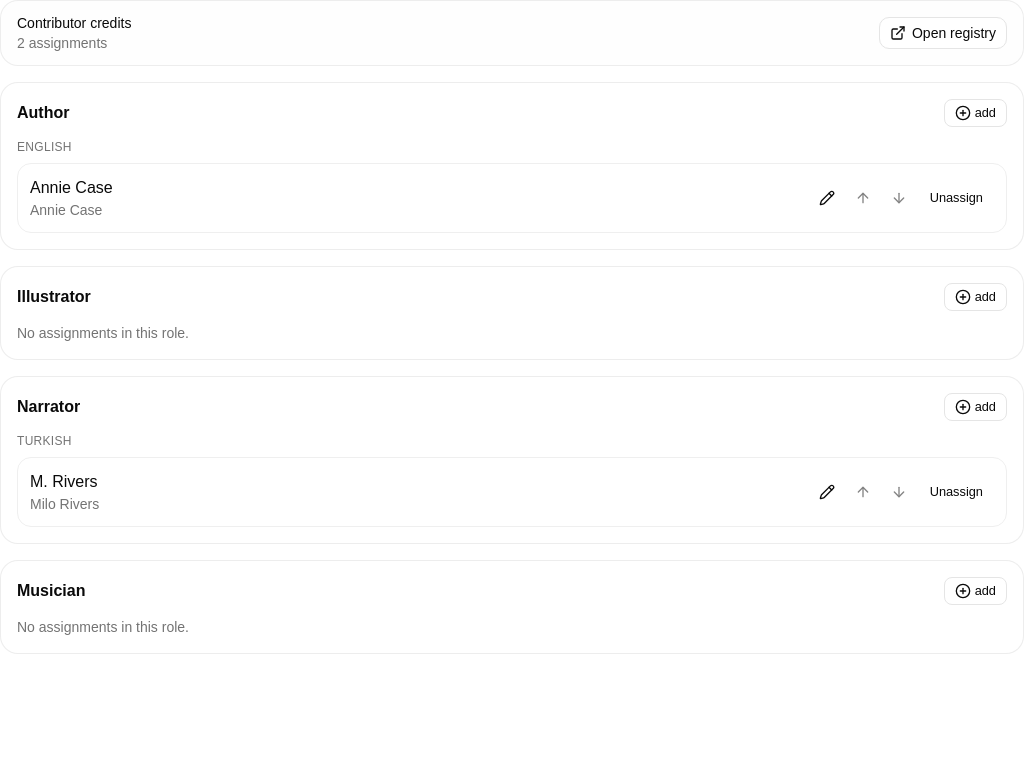
ContentContributorPanel › keeps the assignment editor open when the update fails
What coordinates should you click on to do the following:
click the button named "edit contributor assignment" in the row of "Milo Rivers"
I would click on:
 (827, 492)
Its box is [811,476,843,508].
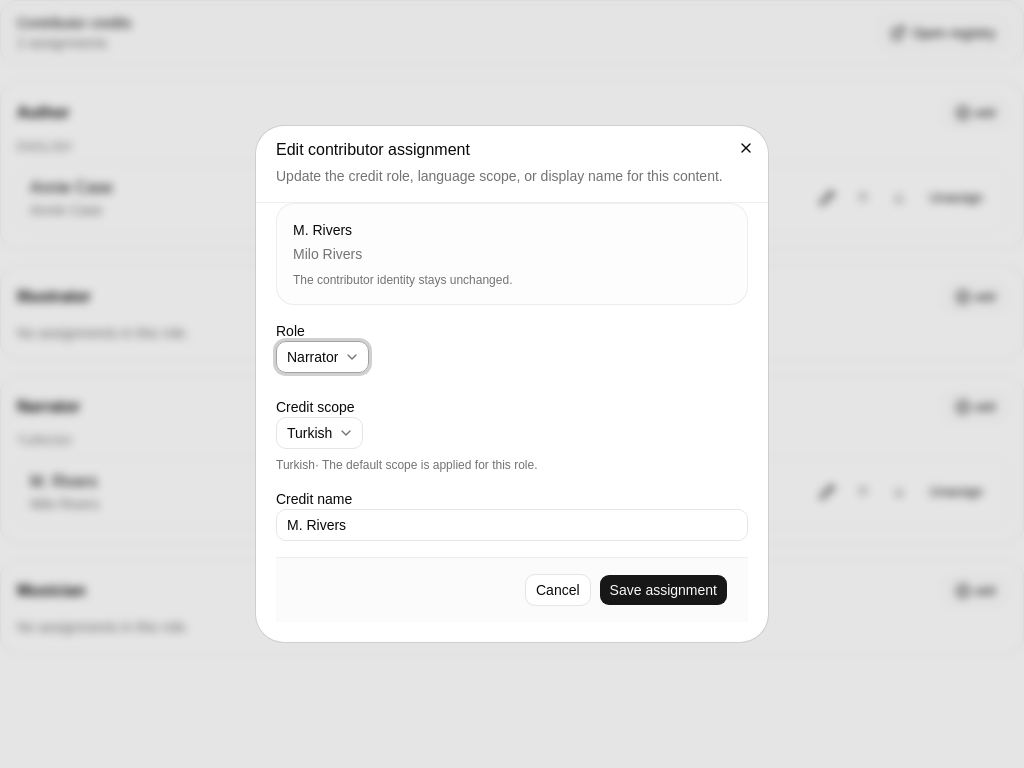
What coordinates should you click on to do the following:
click the button "Save assignment"
I would click on:
 (663, 590)
Its box is [599,574,728,606].
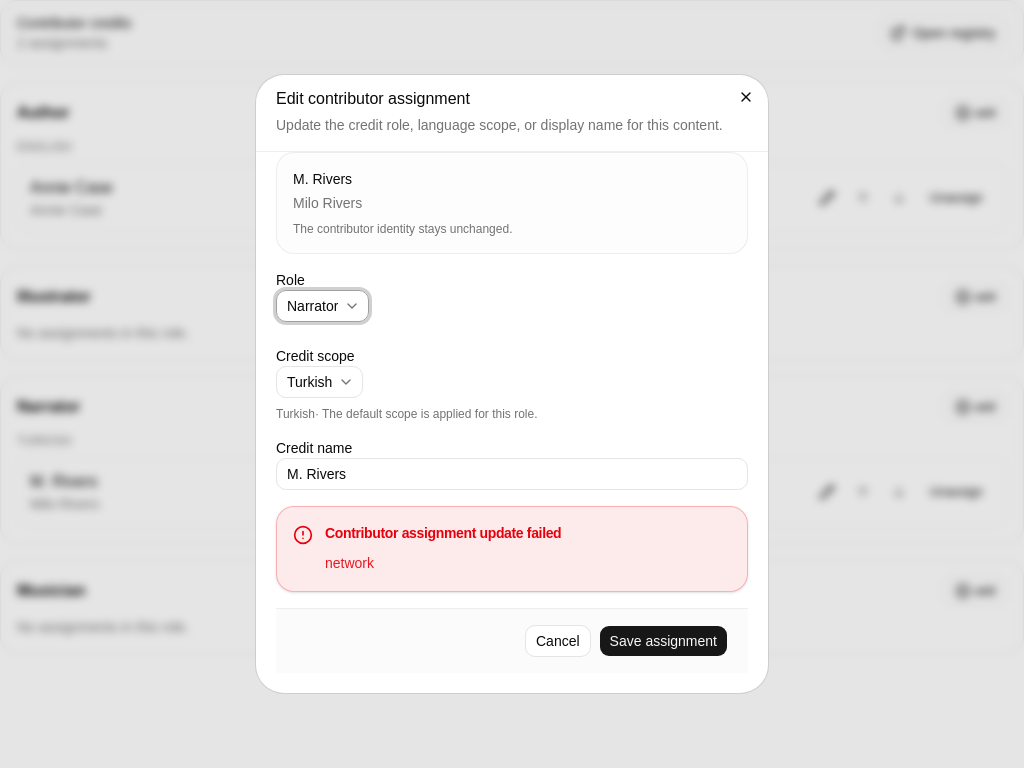
Check: the heading "Edit contributor assignment" is shown, box [276,90,470,107]
Check: the message shows "network", box [325,555,374,571]
